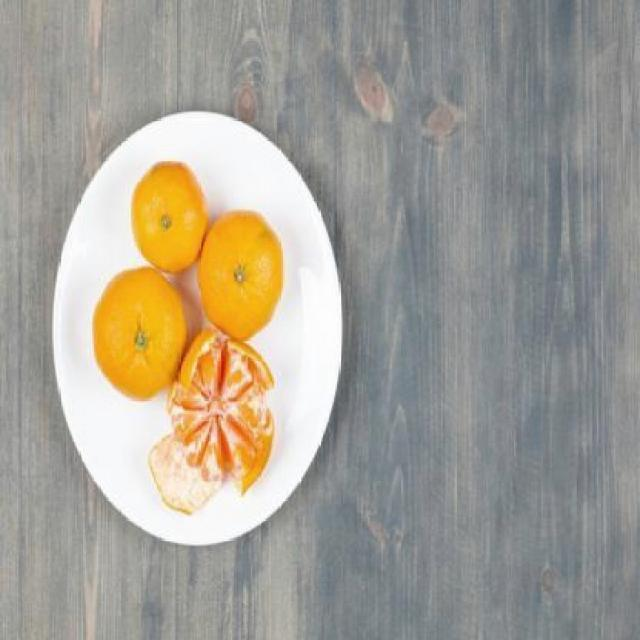Jeruk Sudah Matang: (93, 268, 187, 401), (195, 210, 282, 338), (132, 159, 208, 272)
